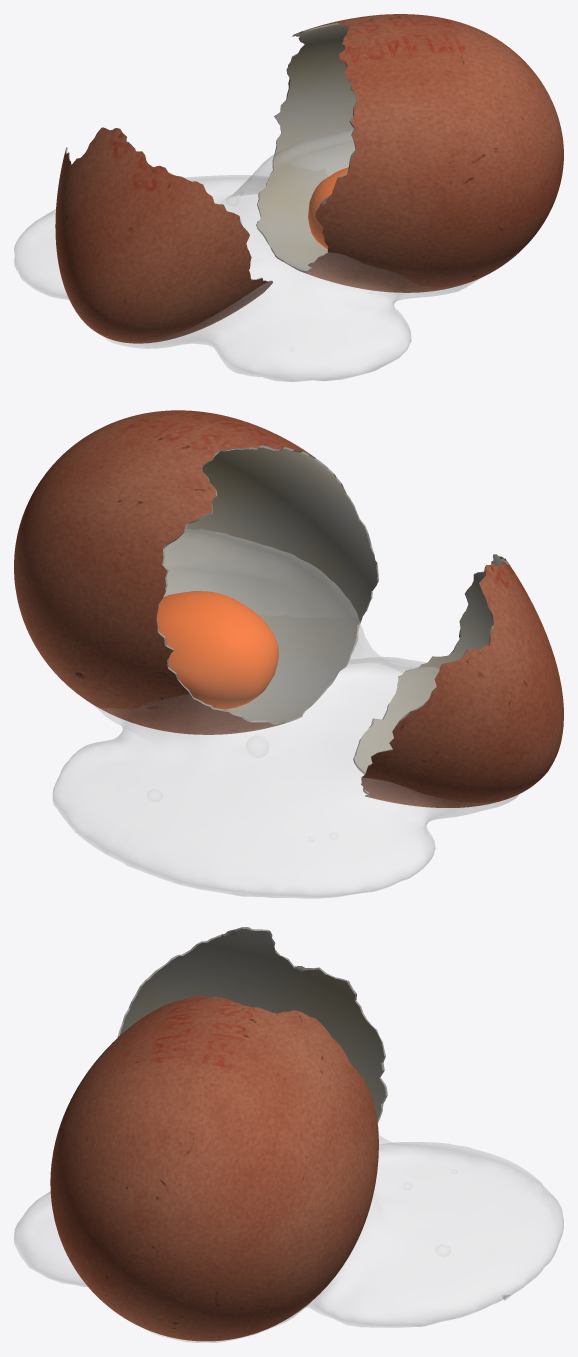
Rendered from egg.glb.
3 views of the same model, one above another, from view 1: azimuth 30°, elevation 25°; view 2: azimuth 150°, elevation 25°; view 3: azimuth 270°, elevation 25° (orthographic). The views are drawn at different scales.
Parts seen in each view (by area): view 1: Bake_target, blanc, Bake_target.001, jaune; view 2: blanc, Bake_target, Bake_target.001, jaune; view 3: Bake_target, blanc, Bake_target.001.
Part boxes in pixels (bbox=[...]): Bake_target: bbox=[256, 14, 563, 292]; blanc: bbox=[14, 128, 480, 381]; Bake_target.001: bbox=[55, 127, 272, 343]; jaune: bbox=[308, 167, 348, 249]; blanc: bbox=[53, 529, 518, 898]; Bake_target: bbox=[14, 410, 378, 734]; Bake_target.001: bbox=[353, 554, 563, 807]; jaune: bbox=[157, 591, 278, 709]; Bake_target: bbox=[50, 995, 378, 1341]; blanc: bbox=[14, 1135, 563, 1342]; Bake_target.001: bbox=[117, 927, 387, 1123].
Size of what is drawn, in the model's own units: 3.81 by 2.02 by 3.42.
6 materials, 2 textured.
